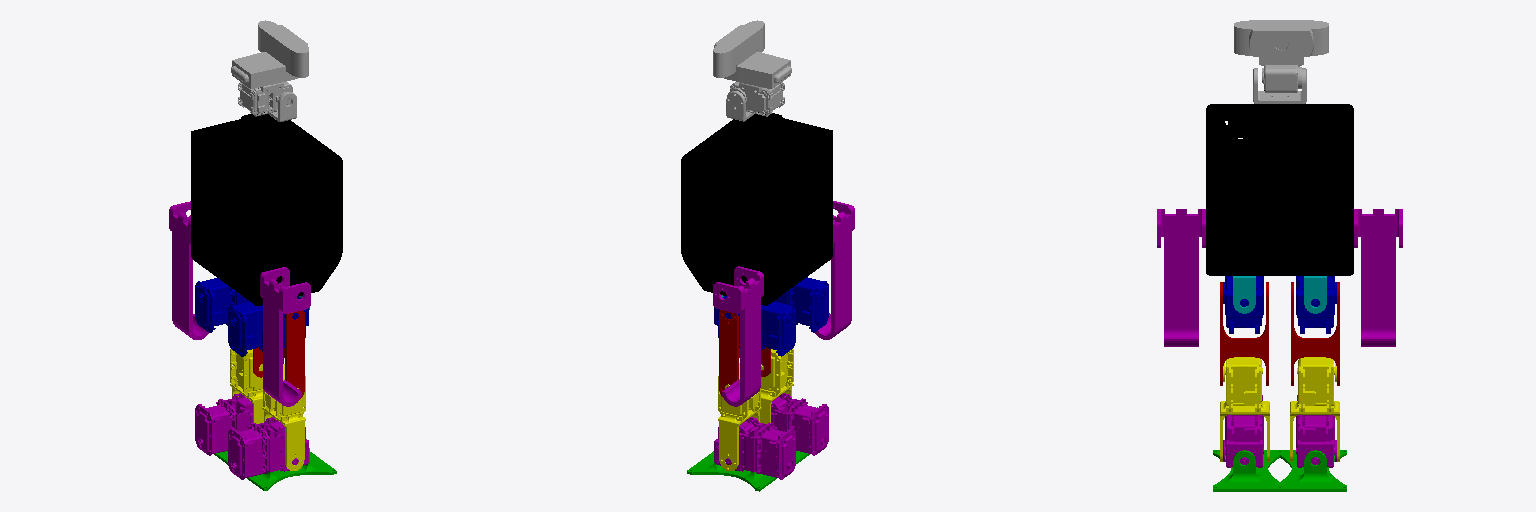
robot.urdf — soccerbot:
<?xml version="1.0" ?>
<!-- =================================================================================== -->
<!-- |    This document was autogenerated by xacro from models/soccerbot.xacro         | -->
<!-- |    EDITING THIS FILE BY HAND IS NOT RECOMMENDED                                 | -->
<!-- =================================================================================== -->
<robot name="soccerbot">
  <material name="white">
    <color rgba="1.0 1.0 1.0 1.0"/>
  </material>
  <material name="black">
    <color rgba="0.0 0.0 0.0 1.0"/>
  </material>
  <material name="silver">
    <color rgba="0.7 0.7 0.7 1.0"/>
  </material>
  <material name="yellow">
    <color rgba="0.9 0.9 0.0 1.0"/>
  </material>
  <material name="red">
    <color rgba="0.7 0.0 0.0 1.0"/>
  </material>
  <material name="green">
    <color rgba="0.0 0.7 0.0 1.0"/>
  </material>
  <material name="blue">
    <color rgba="0.0 0.0 0.7 1.0"/>
  </material>
  <material name="purple">
    <color rgba="0.7 0.0 0.7 1.0"/>
  </material>
  <material name="cyan">
    <color rgba="0.0 0.7 0.7 1.0"/>
  </material>
  <link name="/torso">
    <inertial>
      <mass value="1.529"/>
      <origin rpy="0 0 0" xyz="0.0082498 -0.0017440 -0.0522479"/>
      <inertia ixx="4.323e-3" ixy="5.549e-6" ixz="3.960e-5" iyy="5.198e-3" iyz="-1.509e-5" izz="3.567e-3"/>
    </inertial>
    <collision name="collision">
      <origin rpy="0 0 0" xyz="0 0 0"/>
      <geometry>
        <mesh filename="../meshes/torso.dae" scale="1 1 1"/>
      </geometry>
    </collision>
    <visual name="visual">
      <origin rpy="0 0 0" xyz="0 0 0"/>
      <geometry>
        <mesh filename="../meshes/torso.dae" scale="1 1 1"/>
      </geometry>
      <material name="black"/>
    </visual>
  </link>
  <link name="/left_bicep">
    <inertial>
      <mass value="0.213e-3"/>
      <origin rpy="0  0  0" xyz="0.000 0.02579 -0.04955"/>
      <inertia ixx="2.824e-4" ixy="0.000" ixz="0.0" iyy="2.744e-4" iyz="1.165e-05" izz="2.433e-5"/>
    </inertial>
    <collision name="collision">
      <origin rpy="0  0  0" xyz="0 0.0025 0"/>
      <geometry>
        <mesh filename="../meshes/left_bicep.dae" scale="1 1 1"/>
      </geometry>
    </collision>
    <visual name="visual">
      <origin rpy="0  0  0" xyz="0  0  0"/>
      <geometry>
        <mesh filename="../meshes/left_bicep.dae" scale="1 1 1"/>
      </geometry>
      <material name="white"/>
    </visual>
  </link>
  <link name="/left_forearm">
    <inertial>
      <mass value="45.7e-3"/>
      <origin rpy="0  0  0" xyz="0 0.0245 -0.0546097"/>
      <inertia ixx="0.113e-3" ixy="0.000" ixz="1e-06" iyy="0.107e-3" iyz="0.0" izz="0.012e-3"/>
    </inertial>
    <collision name="collision">
      <origin rpy="0  0  0" xyz="-0.0055 0.005 0"/>
      <geometry>
        <mesh filename="../meshes/left_forearm.dae" scale="1 1 1"/>
      </geometry>
    </collision>
    <visual name="visual">
      <origin rpy="0  0  0" xyz="0  0  0"/>
      <geometry>
        <mesh filename="../meshes/left_forearm.dae" scale="1 1 1"/>
      </geometry>
      <material name="purple"/>
    </visual>
  </link>
  <joint name="left_arm_motor_0" type="revolute">
    <parent link="/torso"/>
    <child link="/left_bicep"/>
    <origin rpy="0 0 0" xyz="-0.0157 0.0725 0"/>
    <axis xyz="0 -1 0"/>
    <dynamics damping="0.01" friction="0.1"/>
    <limit effort="1.5" lower="-1.5707963267948966" upper="3.9269908169872414" velocity="1"/>
  </joint>
  <joint name="left_arm_motor_1" type="revolute">
    <parent link="/left_bicep"/>
    <child link="/left_forearm"/>
    <origin rpy="0 0 0" xyz="0 0 -0.10"/>
    <axis xyz="0 -1 0"/>
    <dynamics damping="0.01" friction="0.1"/>
    <limit effort="1.5" lower="0" upper="3.141592653589793" velocity="1"/>
  </joint>
  <link name="/right_bicep">
    <inertial>
      <mass value="0.213e-3"/>
      <origin rpy="0  0  0" xyz="0.000 -0.02579 -0.04955"/>
      <inertia ixx="2.824e-4" ixy="0.000" ixz="-0.0" iyy="2.744e-4" iyz="-1.165e-05" izz="2.433e-5"/>
    </inertial>
    <collision name="collision">
      <origin rpy="0  0  0" xyz="0 -0.0025 0"/>
      <geometry>
        <mesh filename="../meshes/right_bicep.dae" scale="1 1 1"/>
      </geometry>
    </collision>
    <visual name="visual">
      <origin rpy="0  0  0" xyz="0  0  0"/>
      <geometry>
        <mesh filename="../meshes/right_bicep.dae" scale="1 1 1"/>
      </geometry>
      <material name="white"/>
    </visual>
  </link>
  <link name="/right_forearm">
    <inertial>
      <mass value="45.7e-3"/>
      <origin rpy="0  0  0" xyz="0 -0.0245 -0.0546097"/>
      <inertia ixx="0.113e-3" ixy="0.000" ixz="-1e-06" iyy="0.107e-3" iyz="-0.0" izz="0.012e-3"/>
    </inertial>
    <collision name="collision">
      <origin rpy="0  0  0" xyz="-0.0055 -0.005 0"/>
      <geometry>
        <mesh filename="../meshes/right_forearm.dae" scale="1 1 1"/>
      </geometry>
    </collision>
    <visual name="visual">
      <origin rpy="0  0  0" xyz="0  0  0"/>
      <geometry>
        <mesh filename="../meshes/right_forearm.dae" scale="1 1 1"/>
      </geometry>
      <material name="purple"/>
    </visual>
  </link>
  <joint name="right_arm_motor_0" type="revolute">
    <parent link="/torso"/>
    <child link="/right_bicep"/>
    <origin rpy="0 0 0" xyz="-0.0157 -0.0725 0"/>
    <axis xyz="0 -1 0"/>
    <dynamics damping="0.01" friction="0.1"/>
    <limit effort="1.5" lower="-1.5707963267948966" upper="3.9269908169872414" velocity="1"/>
  </joint>
  <joint name="right_arm_motor_1" type="revolute">
    <parent link="/right_bicep"/>
    <child link="/right_forearm"/>
    <origin rpy="0 0 0" xyz="0 0 -0.10"/>
    <axis xyz="0 -1 0"/>
    <dynamics damping="0.01" friction="0.1"/>
    <limit effort="1.5" lower="0" upper="3.141592653589793" velocity="1"/>
  </joint>
  <link name="/left_hip_side">
    <inertial>
      <mass value="9.364e-3"/>
      <origin rpy="0  0  0" xyz="0.0003695 0.0000 0.01689"/>
      <inertia ixx="0.002e-3" ixy="0.000" ixz="0.000" iyy="0.005e-3" iyz="0.000" izz="0.004e-3"/>
    </inertial>
    <collision name="collision">
      <origin rpy="0  0  0" xyz="0 0 0.00899"/>
      <geometry>
        <mesh filename="../meshes/left_hip_side.dae" scale="1 1 1"/>
      </geometry>
    </collision>
    <visual name="visual">
      <origin rpy="0  0  0" xyz="0  0  0"/>
      <geometry>
        <mesh filename="../meshes/left_hip_side.dae" scale="1 1 1"/>
      </geometry>
      <material name="cyan"/>
    </visual>
  </link>
  <link name="/left_hip_front">
    <inertial>
      <mass value="153.186e-3"/>
      <origin rpy="0 0 0" xyz="-0.02093 0 -0.011313"/>
      <inertia ixx="0.041e-3" ixy="0.000" ixz="-0.002e-3" iyy="0.118e-3" iyz="0.000" izz="0.106e-3"/>
    </inertial>
    <collision name="collision">
      <origin rpy="0 0 0" xyz="-0.02187 0 -0.01332"/>
      <geometry>
        <mesh filename="../meshes/left_hip_front.dae" scale="1 1 1"/>
      </geometry>
    </collision>
    <visual name="visual">
      <origin rpy="0  0  0" xyz="0  0  0"/>
      <geometry>
        <mesh filename="../meshes/left_hip_front.dae" scale="1 1 1"/>
      </geometry>
      <material name="blue"/>
    </visual>
  </link>
  <link name="/left_thigh">
    <inertial>
      <mass value="21.438e-3"/>
      <origin rpy="0 0 0" xyz="0.0019422 0.0001419 -0.0469409"/>
      <inertia ixx="0.025e-3" ixy="2e-06" ixz="0.000" iyy="0.016e-3" iyz="0.000" izz="0.010e-3"/>
    </inertial>
    <collision name="collision">
      <origin rpy="0 0 0" xyz="0 0 -0.0445"/>
      <geometry>
        <mesh filename="../meshes/left_thigh.dae" scale="1 1 1"/>
      </geometry>
    </collision>
    <visual name="visual">
      <origin rpy="0  0  0" xyz="0  0  0"/>
      <geometry>
        <mesh filename="../meshes/left_thigh.dae" scale="1 1 1"/>
      </geometry>
      <material name="red"/>
    </visual>
  </link>
  <link name="/left_calve">
    <inertial>
      <mass value="86.547e-3"/>
      <origin rpy="0  0  0" xyz="0 -3.259e-07 -0.0150123e-3"/>
      <inertia ixx="0.054e-3" ixy="0.000" ixz="0.000" iyy="0.046e-3" iyz="-0.001e-3" izz="0.019e-3"/>
    </inertial>
    <collision name="collision">
      <origin rpy="0 0 0" xyz="0 0 -0.03385"/>
      <geometry>
        <mesh filename="../meshes/left_calve.dae" scale="1 1 1"/>
      </geometry>
    </collision>
    <visual name="visual">
      <origin rpy="0 0 0" xyz="0 0 -0.0827"/>
      <geometry>
        <mesh filename="../meshes/left_calve.dae" scale="1 1 1"/>
      </geometry>
      <material name="yellow"/>
    </visual>
  </link>
  <link name="/left_ankle">
    <inertial>
      <mass value="153.186e-3"/>
      <origin rpy="0 0 0" xyz="-0.020939e-3 0.000 0.011313e-3"/>
      <inertia ixx="0.041e-3" ixy="0.000" ixz="0.002e-3" iyy="0.118e-3" iyz="0.000" izz="0.106e-3"/>
    </inertial>
    <collision name="collision">
      <origin rpy="0 0 0" xyz="-0.02014 0 0.01031"/>
      <geometry>
        <mesh filename="../meshes/left_ankle.dae" scale="1 1 1"/>
      </geometry>
    </collision>
    <visual name="visual">
      <origin rpy="0 0 0" xyz="0  0  0"/>
      <geometry>
        <mesh filename="../meshes/left_ankle.dae" scale="1 1 1"/>
      </geometry>
      <material name="purple"/>
    </visual>
  </link>
  <link name="/left_foot">
    <inertial>
      <mass value="23.216e-3"/>
      <origin rpy="0 0 0" xyz="-0.020939 0.0 0.011313"/>
      <inertia ixx="0.006e-3" ixy="0.000" ixz="0.000" iyy="0.018e-3" iyz="0.000" izz="0.022e-3"/>
    </inertial>
    <collision name="collision">
      <origin rpy="0 0 0" xyz="0.00385 -0.00401 -0.00737 "/>
      <geometry>
        <mesh filename="../meshes/left_foot.dae" scale="1 1 1"/>
      </geometry>
      <contact_coefficients mu="100.0"/>
    </collision>
    <visual name="visual">
      <origin rpy="0  0  0" xyz="0  0  0"/>
      <geometry>
        <mesh filename="../meshes/left_foot.dae" scale="1 1 1"/>
      </geometry>
      <material name="green"/>
    </visual>
  </link>
  <joint name="left_leg_motor_0" type="revolute">
    <parent link="/torso"/>
    <child link="/left_hip_side"/>
    <origin rpy="0 0 0" xyz="0.0135 0.035 -0.156"/>
    <axis xyz="0 0 -1"/>
    <dynamics damping="0.01" friction="0.1"/>
    <limit effort="2.5" lower="-1.309" upper="0.524" velocity="1"/>
  </joint>
  <joint name="left_leg_motor_1" type="revolute">
    <parent link="/left_hip_side"/>
    <child link="/left_hip_front"/>
    <origin rpy="0 0 0" xyz="0 0 0"/>
    <axis xyz="1 0 0"/>
    <dynamics damping="0.01" friction="0.1"/>
    <limit effort="2.5" lower="-0.7853981633974483" upper="1.5707963267948966" velocity="1"/>
  </joint>
  <joint name="left_leg_motor_2" type="revolute">
    <parent link="/left_hip_front"/>
    <child link="/left_thigh"/>
    <origin rpy="0 0 0" xyz="0 0 0"/>
    <axis xyz="0 -1 0"/>
    <dynamics damping="0.01" friction="0.1"/>
    <limit effort="2.5" lower="-0.7853981633974483" upper="2.356194490192345" velocity="1"/>
  </joint>
  <joint name="left_leg_motor_3" type="revolute">
    <parent link="/left_thigh"/>
    <child link="/left_calve"/>
    <origin rpy="0 0 0" xyz="0 0 -0.0890"/>
    <axis xyz="0 -1 0"/>
    <dynamics damping="0.01" friction="0.1"/>
    <limit effort="2.5" lower="-2.793" upper="0" velocity="1"/>
  </joint>
  <joint name="left_leg_motor_4" type="revolute">
    <parent link="/left_calve"/>
    <child link="/left_ankle"/>
    <origin rpy="0 0 0" xyz="0 0 -0.0827"/>
    <axis xyz="0 -1 0"/>
    <dynamics damping="0.01" friction="0.1"/>
    <limit effort="2.5" lower="-0.7853981633974483" upper="1.5707963267948966" velocity="1"/>
  </joint>
  <joint name="left_leg_motor_5" type="revolute">
    <parent link="/left_ankle"/>
    <child link="/left_foot"/>
    <origin rpy="0 0 0" xyz="0 0 0"/>
    <axis xyz="1 0 0"/>
    <dynamics damping="0.01" friction="0.1"/>
    <limit effort="2.5" lower="-0.7853981633974483" upper="0.7853981633974483" velocity="1"/>
  </joint>
  <link name="/right_hip_side">
    <inertial>
      <mass value="9.364e-3"/>
      <origin rpy="0  0  0" xyz="0.0003695 0.0000 0.01689"/>
      <inertia ixx="0.002e-3" ixy="0.000" ixz="0.000" iyy="0.005e-3" iyz="0.000" izz="0.004e-3"/>
    </inertial>
    <collision name="collision">
      <origin rpy="0  0  0" xyz="0 0 0.00899"/>
      <geometry>
        <mesh filename="../meshes/right_hip_side.dae" scale="1 1 1"/>
      </geometry>
    </collision>
    <visual name="visual">
      <origin rpy="0  0  0" xyz="0  0  0"/>
      <geometry>
        <mesh filename="../meshes/right_hip_side.dae" scale="1 1 1"/>
      </geometry>
      <material name="cyan"/>
    </visual>
  </link>
  <link name="/right_hip_front">
    <inertial>
      <mass value="153.186e-3"/>
      <origin rpy="0 0 0" xyz="-0.02093 0 -0.011313"/>
      <inertia ixx="0.041e-3" ixy="0.000" ixz="-0.002e-3" iyy="0.118e-3" iyz="0.000" izz="0.106e-3"/>
    </inertial>
    <collision name="collision">
      <origin rpy="0 0 0" xyz="-0.02187 0 -0.01332"/>
      <geometry>
        <mesh filename="../meshes/right_hip_front.dae" scale="1 1 1"/>
      </geometry>
    </collision>
    <visual name="visual">
      <origin rpy="0  0  0" xyz="0  0  0"/>
      <geometry>
        <mesh filename="../meshes/right_hip_front.dae" scale="1 1 1"/>
      </geometry>
      <material name="blue"/>
    </visual>
  </link>
  <link name="/right_thigh">
    <inertial>
      <mass value="21.438e-3"/>
      <origin rpy="0 0 0" xyz="0.0019422 -0.0001419 -0.0469409"/>
      <inertia ixx="0.025e-3" ixy="-2e-06" ixz="0.000" iyy="0.016e-3" iyz="0.000" izz="0.010e-3"/>
    </inertial>
    <collision name="collision">
      <origin rpy="0 0 0" xyz="0 0 -0.0445"/>
      <geometry>
        <mesh filename="../meshes/right_thigh.dae" scale="1 1 1"/>
      </geometry>
    </collision>
    <visual name="visual">
      <origin rpy="0  0  0" xyz="0  0  0"/>
      <geometry>
        <mesh filename="../meshes/right_thigh.dae" scale="1 1 1"/>
      </geometry>
      <material name="red"/>
    </visual>
  </link>
  <link name="/right_calve">
    <inertial>
      <mass value="86.547e-3"/>
      <origin rpy="0  0  0" xyz="0 3.259e-07 -0.0150123e-3"/>
      <inertia ixx="0.054e-3" ixy="0.000" ixz="0.000" iyy="0.046e-3" iyz="-0.001e-3" izz="0.019e-3"/>
    </inertial>
    <collision name="collision">
      <origin rpy="0 0 0" xyz="0 0 -0.03385"/>
      <geometry>
        <mesh filename="../meshes/right_calve.dae" scale="1 1 1"/>
      </geometry>
    </collision>
    <visual name="visual">
      <origin rpy="0 0 0" xyz="0 0 -0.0827"/>
      <geometry>
        <mesh filename="../meshes/right_calve.dae" scale="1 1 1"/>
      </geometry>
      <material name="yellow"/>
    </visual>
  </link>
  <link name="/right_ankle">
    <inertial>
      <mass value="153.186e-3"/>
      <origin rpy="0 0 0" xyz="-0.020939e-3 0.000 0.011313e-3"/>
      <inertia ixx="0.041e-3" ixy="0.000" ixz="0.002e-3" iyy="0.118e-3" iyz="0.000" izz="0.106e-3"/>
    </inertial>
    <collision name="collision">
      <origin rpy="0 0 0" xyz="-0.02014 0 0.01031"/>
      <geometry>
        <mesh filename="../meshes/right_ankle.dae" scale="1 1 1"/>
      </geometry>
    </collision>
    <visual name="visual">
      <origin rpy="0 0 0" xyz="0  0  0"/>
      <geometry>
        <mesh filename="../meshes/right_ankle.dae" scale="1 1 1"/>
      </geometry>
      <material name="purple"/>
    </visual>
  </link>
  <link name="/right_foot">
    <inertial>
      <mass value="23.216e-3"/>
      <origin rpy="0 0 0" xyz="-0.020939 0.0 0.011313"/>
      <inertia ixx="0.006e-3" ixy="0.000" ixz="0.000" iyy="0.018e-3" iyz="0.000" izz="0.022e-3"/>
    </inertial>
    <collision name="collision">
      <origin rpy="0 0 0" xyz="0.00385 0.00401 -0.00737 "/>
      <geometry>
        <mesh filename="../meshes/right_foot.dae" scale="1 1 1"/>
      </geometry>
      <contact_coefficients mu="100.0"/>
    </collision>
    <visual name="visual">
      <origin rpy="0  0  0" xyz="0  0  0"/>
      <geometry>
        <mesh filename="../meshes/right_foot.dae" scale="1 1 1"/>
      </geometry>
      <material name="green"/>
    </visual>
  </link>
  <joint name="right_leg_motor_0" type="revolute">
    <parent link="/torso"/>
    <child link="/right_hip_side"/>
    <origin rpy="0 0 0" xyz="0.0135 -0.035 -0.156"/>
    <axis xyz="0 0 1"/>
    <dynamics damping="0.01" friction="0.1"/>
    <limit effort="2.5" lower="-1.309" upper="0.524" velocity="1"/>
  </joint>
  <joint name="right_leg_motor_1" type="revolute">
    <parent link="/right_hip_side"/>
    <child link="/right_hip_front"/>
    <origin rpy="0 0 0" xyz="0 0 0"/>
    <axis xyz="-1 0 0"/>
    <dynamics damping="0.01" friction="0.1"/>
    <limit effort="2.5" lower="-0.7853981633974483" upper="1.5707963267948966" velocity="1"/>
  </joint>
  <joint name="right_leg_motor_2" type="revolute">
    <parent link="/right_hip_front"/>
    <child link="/right_thigh"/>
    <origin rpy="0 0 0" xyz="0 0 0"/>
    <axis xyz="0 -1 0"/>
    <dynamics damping="0.01" friction="0.1"/>
    <limit effort="2.5" lower="-0.7853981633974483" upper="2.356194490192345" velocity="1"/>
  </joint>
  <joint name="right_leg_motor_3" type="revolute">
    <parent link="/right_thigh"/>
    <child link="/right_calve"/>
    <origin rpy="0 0 0" xyz="0 0 -0.0890"/>
    <axis xyz="0 -1 0"/>
    <dynamics damping="0.01" friction="0.1"/>
    <limit effort="2.5" lower="-2.793" upper="0" velocity="1"/>
  </joint>
  <joint name="right_leg_motor_4" type="revolute">
    <parent link="/right_calve"/>
    <child link="/right_ankle"/>
    <origin rpy="0 0 0" xyz="0 0 -0.0827"/>
    <axis xyz="0 -1 0"/>
    <dynamics damping="0.01" friction="0.1"/>
    <limit effort="2.5" lower="-0.7853981633974483" upper="1.5707963267948966" velocity="1"/>
  </joint>
  <joint name="right_leg_motor_5" type="revolute">
    <parent link="/right_ankle"/>
    <child link="/right_foot"/>
    <origin rpy="0 0 0" xyz="0 0 0"/>
    <axis xyz="-1 0 0"/>
    <dynamics damping="0.01" friction="0.1"/>
    <limit effort="2.5" lower="-0.7853981633974483" upper="0.7853981633974483" velocity="1"/>
  </joint>
  <link name="/neck">
    <inertial>
      <mass value="0.011294"/>
      <origin rpy="0  0  0" xyz="0 -0.0006476 0.0092453"/>
      <inertia ixx="5.489e-6" ixy="0" ixz="0" iyy="1.433e-6" iyz="0" izz="4.955e-6"/>
    </inertial>
    <collision name="collision">
      <origin rpy="0  0  0" xyz="0 0 0.0165"/>
      <geometry>
        <mesh filename="../meshes/neck.dae" scale="1 1 1"/>
      </geometry>
    </collision>
    <visual name="visual">
      <origin rpy="0  0  0" xyz="0  0  0"/>
      <geometry>
        <mesh filename="../meshes/neck.dae" scale="1 1 1"/>
      </geometry>
      <material name="silver"/>
    </visual>
  </link>
  <link name="/head">
    <inertial>
      <mass value="0.282"/>
      <origin rpy="0  0  0" xyz="0.0237166 0.0018096 0.0255966"/>
      <inertia ixx="2.06e-4" ixy="1.06e-6" ixz="-5.73e-5" iyy="2.057e-4" iyz="2.534e-6" izz="1.603e-4"/>
    </inertial>
    <collision name="collision">
      <origin rpy="0  0  0" xyz="-0.013 0 0.025"/>
      <geometry>
        <mesh filename="../meshes/head.dae" scale="1 1 1"/>
      </geometry>
    </collision>
    <visual name="visual">
      <origin rpy="0  0  0" xyz="0  0  0"/>
      <geometry>
        <mesh filename="../meshes/head.dae" scale="1 1 1"/>
      </geometry>
      <material name="silver"/>
    </visual>
  </link>
  <joint name="head_motor_0" type="revolute">
    <parent link="/torso"/>
    <child link="/neck"/>
    <origin rpy="0 0 0" xyz="0.024 0 0.05875"/>
    <axis xyz="0 0 1"/>
    <dynamics damping="0.01" friction="0.1"/>
    <limit effort="1.5" lower="-1.5707963267948966" upper="1.5707963267948966" velocity="1"/>
  </joint>
  <joint name="head_motor_1" type="revolute">
    <parent link="/neck"/>
    <child link="/head"/>
    <origin rpy="0 0 0" xyz="0 0 0.024"/>
    <axis xyz="0 1 0"/>
    <dynamics damping="0.01" friction="0.1"/>
    <limit effort="1.5" lower="-2.356194490192345" upper="2.356194490192345" velocity="1"/>
  </joint>
  <link name="/imu_link">
    <inertial>
      <mass value="0.01"/>
      <origin rpy="0  0  0" xyz="0 0 0"/>
      <inertia ixx="1e-9" ixy="0" ixz="0" iyy="1e-9" iyz="0" izz="1e-9"/>
    </inertial>
  </link>
  <joint name="/torso_imu" type="fixed">
    <parent link="/torso"/>
    <child link="/imu_link"/>
    <origin rpy="0 0 0" xyz="0.0 0 0.000"/>
    <axis xyz="0 0 0"/>
  </joint>
  <link name="/camera">
    <inertial>
      <mass value="0.01"/>
      <origin rpy="0  0  0" xyz="0 0 0"/>
      <inertia ixx="1e-9" ixy="0" ixz="0" iyy="1e-9" iyz="0" izz="1e-9"/>
    </inertial>
  </link>
  <joint name="/head_camera" type="fixed">
    <parent link="/head"/>
    <child link="/camera"/>
    <origin rpy="0 0 0" xyz="0.015 0.00145 0.04740"/>
    <axis xyz="0  0  0"/>
    <dynamics damping="0.01" friction="0.1"/>
    <limit effort="0" lower="0" upper="0" velocity="0"/>
  </joint>
</robot>

--- Render facts (derived) ---
Views: 3 orthographic renders of the robot side by side, from view 1: azimuth 30°, elevation 25°; view 2: azimuth 150°, elevation 25°; view 3: azimuth 270°, elevation 25°.
Robot: soccerbot — 21 links, 20 joints (18 revolute, 2 fixed); root link /torso; default pose: all joints at 0.
Visible links, largest first — view 1: /torso, /head, /right_forearm, /right_ankle, /left_forearm, /left_ankle, /right_hip_front, /right_calve, /left_hip_front, /left_calve, /right_thigh, /right_foot (+1 smaller); view 2: /torso, /head, /left_forearm, /left_ankle, /right_forearm, /right_ankle, /left_calve, /left_hip_front, /right_hip_front, /right_calve, /left_thigh, /left_foot (+1 smaller); view 3: /torso, /left_forearm, /right_forearm, /head, /left_calve, /right_calve, /left_foot, /right_foot, /left_ankle, /right_ankle, /right_thigh, /left_thigh (+5 smaller).
Boxes of the visible links, x1=… form: /torso: x1=191, y1=112, x2=342, y2=305; /head: x1=231, y1=20, x2=308, y2=116; /right_forearm: x1=260, y1=267, x2=310, y2=406; /right_ankle: x1=228, y1=417, x2=308, y2=479; /left_forearm: x1=169, y1=201, x2=208, y2=339; /left_ankle: x1=195, y1=393, x2=252, y2=455; /right_hip_front: x1=228, y1=296, x2=308, y2=356; /right_calve: x1=262, y1=364, x2=305, y2=470; /left_hip_front: x1=195, y1=278, x2=249, y2=332; /left_calve: x1=230, y1=349, x2=263, y2=423; /right_thigh: x1=283, y1=310, x2=304, y2=398; /right_foot: x1=247, y1=448, x2=336, y2=490; /torso: x1=681, y1=112, x2=832, y2=305; /head: x1=713, y1=20, x2=791, y2=116; /left_forearm: x1=713, y1=266, x2=763, y2=406; /left_ankle: x1=714, y1=417, x2=795, y2=479; /right_forearm: x1=815, y1=201, x2=854, y2=339; /right_ankle: x1=771, y1=393, x2=828, y2=455; /left_calve: x1=718, y1=363, x2=761, y2=470; /left_hip_front: x1=714, y1=296, x2=795, y2=356; /right_hip_front: x1=775, y1=277, x2=828, y2=332; /right_calve: x1=760, y1=349, x2=793, y2=423; /left_thigh: x1=719, y1=310, x2=739, y2=396; /left_foot: x1=687, y1=451, x2=776, y2=491; /torso: x1=1206, y1=90, x2=1353, y2=275; /left_forearm: x1=1354, y1=209, x2=1402, y2=346; /right_forearm: x1=1157, y1=209, x2=1205, y2=346; /head: x1=1234, y1=20, x2=1328, y2=92; /left_calve: x1=1290, y1=357, x2=1339, y2=461; /right_calve: x1=1220, y1=357, x2=1269, y2=461; /left_foot: x1=1276, y1=450, x2=1346, y2=491; /right_foot: x1=1213, y1=450, x2=1283, y2=491; /left_ankle: x1=1296, y1=395, x2=1336, y2=467; /right_ankle: x1=1223, y1=395, x2=1263, y2=467; /right_thigh: x1=1220, y1=282, x2=1268, y2=385; /left_thigh: x1=1291, y1=282, x2=1339, y2=385.
Bounding box of the posed robot: 0.1143 × 0.243 × 0.4944 m (x, y, z).
Meshes: 19 distinct files referenced, 17 mesh visuals loaded (17 Collada DAE); not drawn: 2 (reference not matched to a file when rendering).